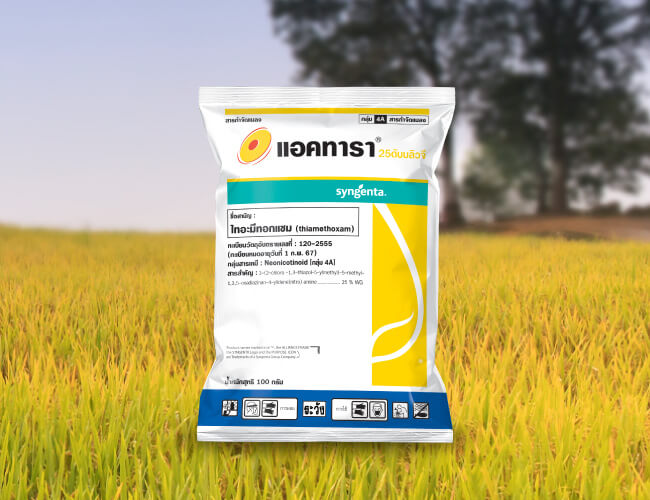Insecticide: (190, 80, 462, 456)
